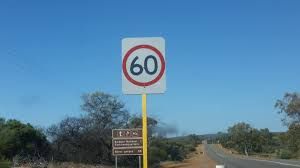Speed_limit_60km: (121, 45, 167, 86)
